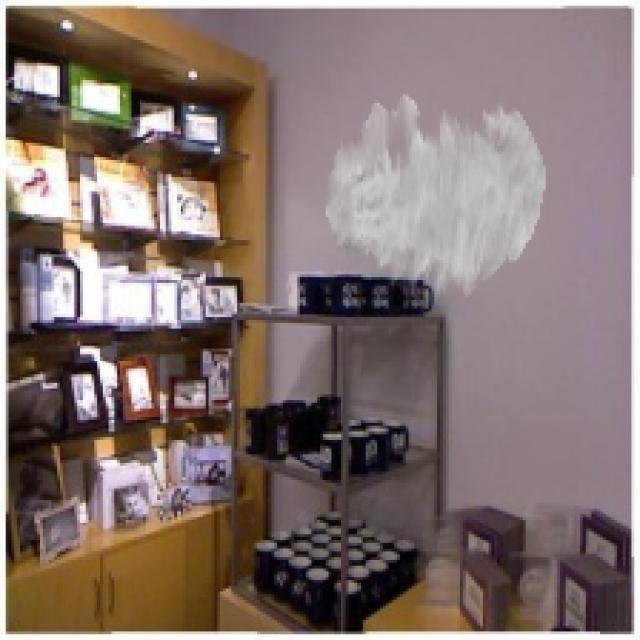smoke: (326, 94, 546, 300)
